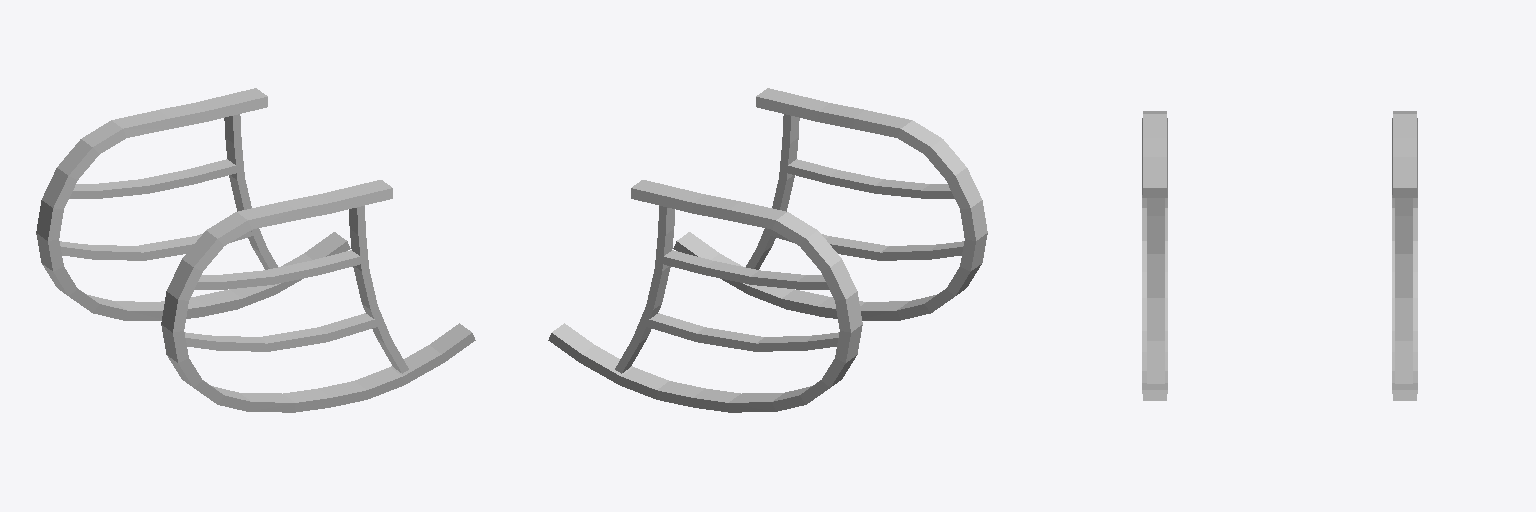
The model's file is Option6_P.obj.
3 renders of one model, left to right at view 1: azimuth 30°, elevation 25°; view 2: azimuth 150°, elevation 25°; view 3: azimuth 270°, elevation 25°, orthographic.
Parts seen in each view (by area): view 1: legs2; view 2: legs2; view 3: legs2.
Boxes of the visible parts, box(x1,y1,x2,y2) form: legs2: box(36, 88, 475, 412); legs2: box(548, 88, 987, 412); legs2: box(1142, 111, 1417, 400).
Size of the model in its own units: 3.41 by 2.24 by 2.69.